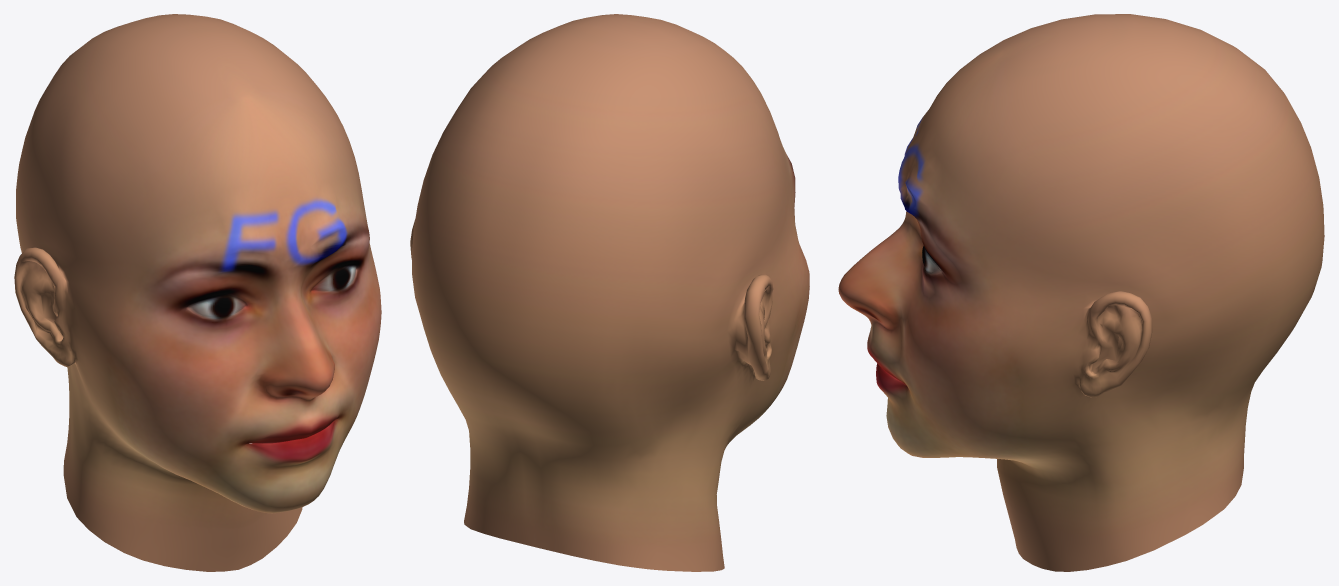
The model's file is avg_anyrace_female_12.obj.
The picture shows the model from 3 angles, left to right: view 1: azimuth 30°, elevation 25°; view 2: azimuth 150°, elevation 25°; view 3: azimuth 270°, elevation 25°; orthographic projection. The views are drawn at different scales.
Visible parts, largest first — view 1: HeadHires; view 2: HeadHires; view 3: HeadHires.
Boxes of the visible parts, <box> form: HeadHires: <box>14,14,381,571</box>; HeadHires: <box>410,14,809,571</box>; HeadHires: <box>838,14,1324,571</box>.
Size of the model in its own units: 191 by 283 by 240.
Materials: 1 (1 with a texture image).
